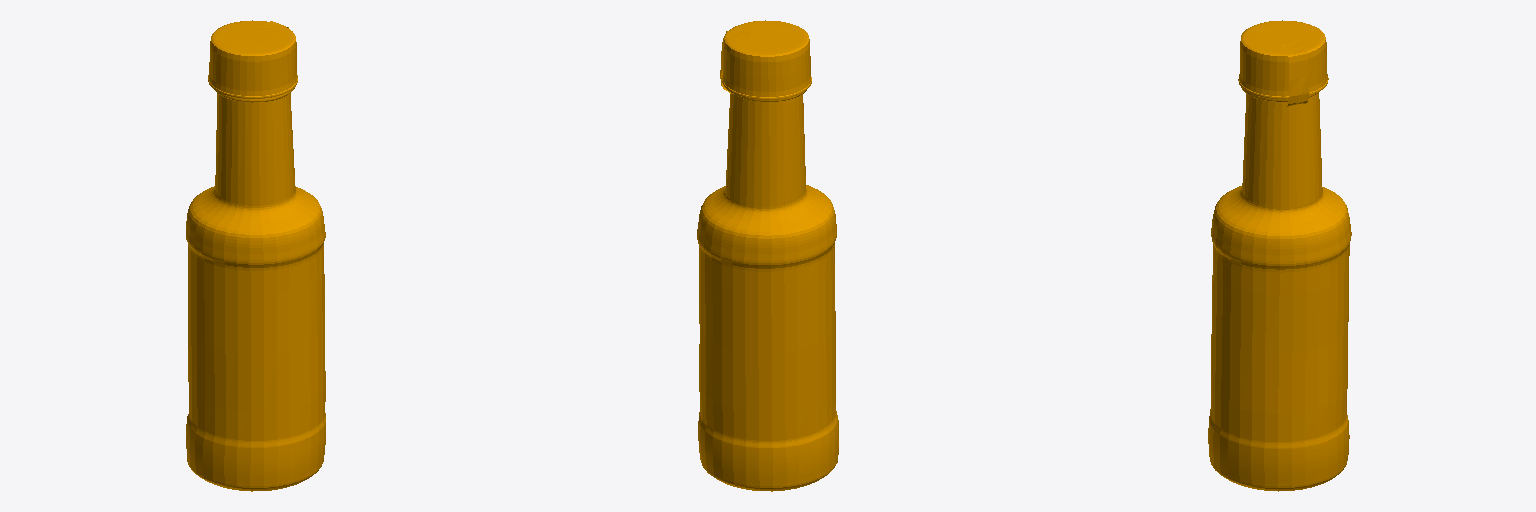
The robot description file, URDF, robot "mesh_object":
<?xml version="1.0" ?>
<robot name="mesh_object">
  <link name="base">
    <visual>
      <geometry>
        <mesh filename="Tabasco_sauce_4.obj" scale="1 1 1"/>
      </geometry>
    </visual>
    <collision>
      <geometry>
        <mesh filename="Tabasco_sauce_4.obj" scale="1 1 1"/>
      </geometry>
    </collision>
    <inertial>
      <origin xyz="0.000006 -0.000535 0.095033" rpy="0 0 0"/>
      <mass value="0.5"/>
      <inertia ixx="0.01" iyy="0.01" izz="0.01" ixy="0" ixz="0" iyz="0"/>
    </inertial>
  </link>
</robot>

--- Render facts (derived) ---
The picture shows the robot from 3 angles, left to right: view 1: azimuth 30°, elevation 25°; view 2: azimuth 150°, elevation 25°; view 3: azimuth 270°, elevation 25°; orthographic projection.
Robot: mesh_object — 1 links, 0 joints (none); root link base; default pose: all joints at 0.
Links seen in each view (by area): view 1: base; view 2: base; view 3: base.
Boxes of the visible links, x1,y1,x2,y2 form: base: (186,20,325,491); base: (697,20,838,491); base: (1208,20,1351,491).
Size in the robot's own frame: 0.056 by 0.057 by 0.1901 metres.
1 mesh visuals loaded from 1 distinct referenced files (1 OBJ).
